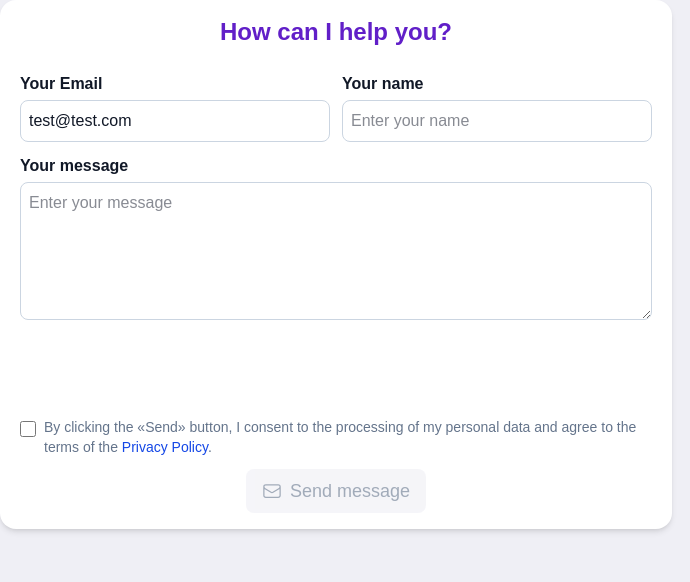
Test case: ContactForm › shows a consent hint when trying to submit without consent
In the field labelled "Your name": (497, 121) [342,100,652,142], type "John"
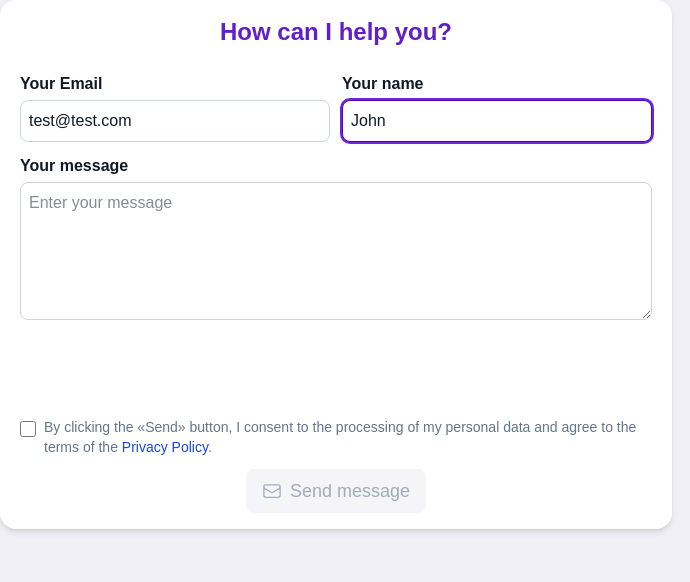
In the text box labelled "Your message": (336, 251) [20,182,652,320], type "Hello"
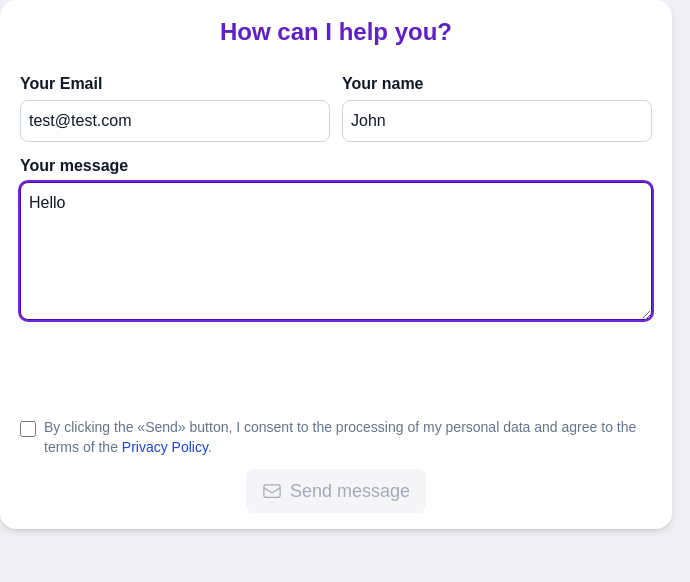
Note: The button is disabled, so the click is captured by its wrapper.
Click the element showing "Send message": (336, 491) [246,469,426,513]
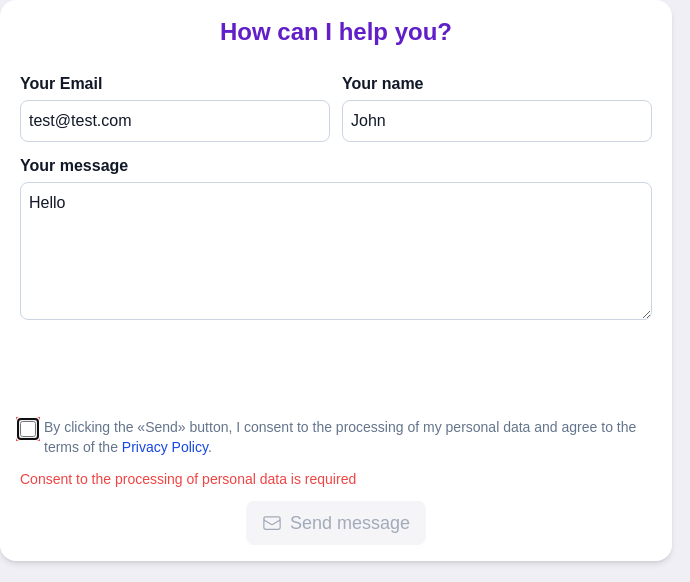
expect the message reads "Consent to the processing of personal data is required": met, box [20,471,356,487]
Note: Giving consent clears the hint.
Click the checkbox: (28, 429) [20,421,36,437]
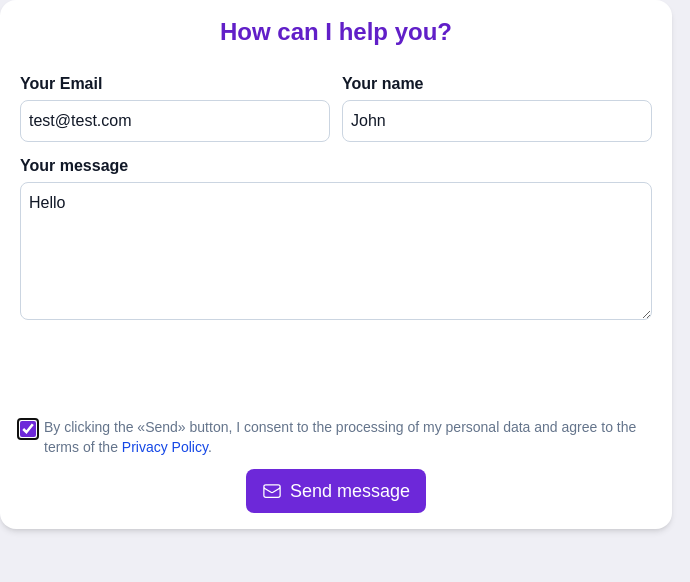
expect the message "Consent to the processing of personal data is required" is gone: met
